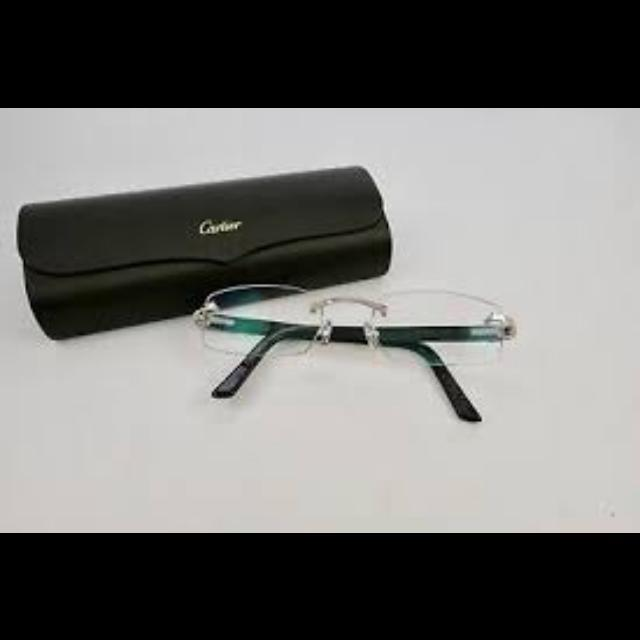glasses: (194, 284, 516, 424)
